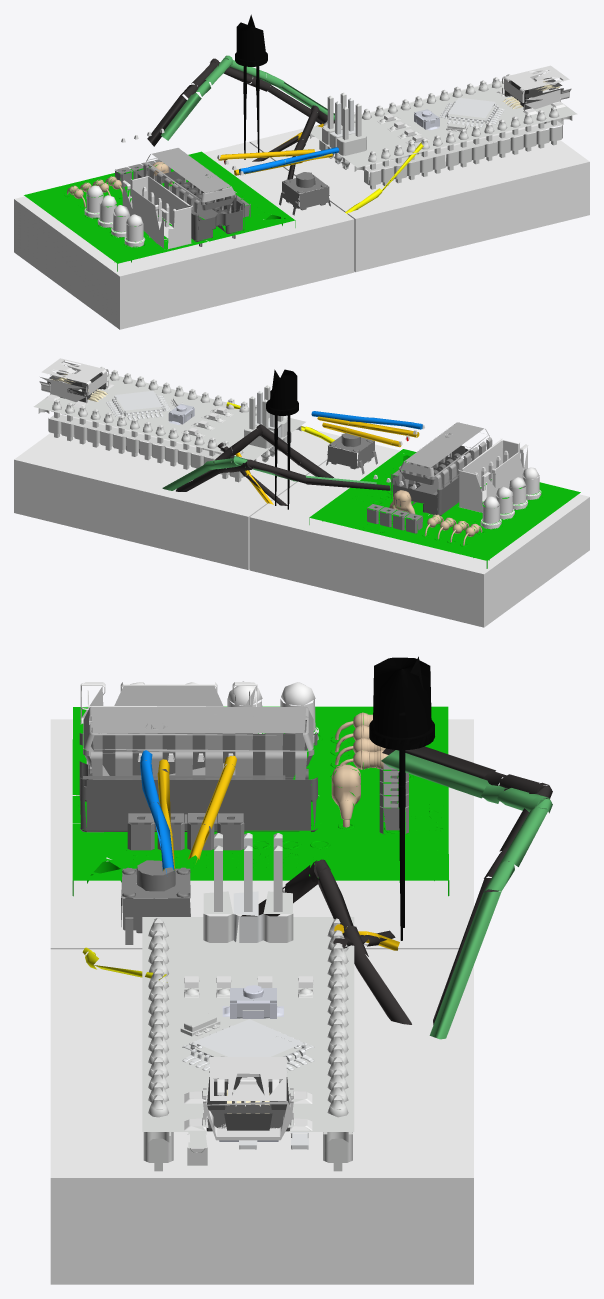
Rendered from circuitry.glb.
3 renders of one model, top to bottom at view 1: azimuth 30°, elevation 25°; view 2: azimuth 150°, elevation 25°; view 3: azimuth 270°, elevation 25°, orthographic. The views are drawn at different scales.
Parts seen in each view (by area): view 1: Body 01 (10) (×2), arduino nano.STEP-1/nano-board.STEP-1-solid1, object 61, arduino nano.STEP-1/15pin_header__.STEP-1-solid1, object 1090, object 1087, arduino nano.STEP-1/MINIUSB - MEASURED.STEP-1/MINIUSBSHELL.S, object 58, object 1064, Body1, arduino nano.STEP-1/atmega328.STEP-1-solid1, object 1110 (+16 smaller); view 2: Body 01 (10) (×2), object 61, arduino nano.STEP-1/nano-board.STEP-1-solid1, arduino nano.STEP-1/15pin_header__.STEP-2-solid1, object 1090, object 1087, arduino nano.STEP-1/MINIUSB - MEASURED.STEP-1/MINIUSBSHELL.S, object 58, object 1064, Body1, arduino nano.STEP-1/atmega328.STEP-1-solid1, object 1108 (+17 smaller); view 3: Body 01 (10) (×2), arduino nano.STEP-1/nano-board.STEP-1-solid1, object 61, object 1087, object 58, arduino nano.STEP-1/MINIUSB - MEASURED.STEP-1/MINIUSBSHELL.S, object 1064, BRK (×2), object 1109, Body1, object 1090, arduino nano.STEP-1/atmega328.STEP-1-solid1 (+16 smaller).
Boxes of the visible parts, x1,y1,x2,y2 form: Body 01 (10) (×2): (14, 85, 589, 329); arduino nano.STEP-1/nano-board.STEP-1-solid1: (310, 79, 577, 171); object 61: (24, 151, 295, 271); arduino nano.STEP-1/15pin_header__.STEP-1-solid1: (364, 106, 562, 189); object 1090: (122, 176, 192, 249); object 1087: (137, 171, 244, 246); arduino nano.STEP-1/MINIUSB - MEASURED.STEP-1/MINIUSBSHELL.S: (496, 65, 571, 114); object 58: (235, 14, 267, 159); object 1064: (152, 148, 230, 192); Body1: (279, 172, 330, 215); arduino nano.STEP-1/atmega328.STEP-1-solid1: (439, 97, 504, 127); object 1110: (161, 55, 232, 140); Body 01 (10) (×2): (14, 416, 589, 627); object 61: (309, 449, 580, 568); arduino nano.STEP-1/nano-board.STEP-1-solid1: (33, 372, 305, 461); arduino nano.STEP-1/15pin_header__.STEP-2-solid1: (48, 399, 243, 482); object 1090: (458, 438, 527, 512); object 1087: (391, 437, 479, 515); arduino nano.STEP-1/MINIUSB - MEASURED.STEP-1/MINIUSBSHELL.S: (39, 358, 113, 407); object 58: (266, 369, 298, 509); object 1064: (405, 422, 483, 467); Body1: (327, 433, 377, 474); arduino nano.STEP-1/atmega328.STEP-1-solid1: (106, 390, 171, 420); object 1108: (247, 459, 390, 490); Body 01 (10) (×2): (50, 719, 473, 1284); arduino nano.STEP-1/nano-board.STEP-1-solid1: (142, 917, 354, 1142); object 61: (72, 706, 449, 896); object 1087: (79, 730, 317, 832); object 58: (369, 656, 434, 940); arduino nano.STEP-1/MINIUSB - MEASURED.STEP-1/MINIUSBSHELL.S: (184, 1056, 312, 1140); object 1064: (91, 707, 306, 732); BRK (×2): (127, 763, 408, 850); object 1109: (429, 798, 552, 1039); Body1: (121, 860, 190, 944); object 1090: (80, 682, 257, 775); arduino nano.STEP-1/atmega328.STEP-1-solid1: (182, 1019, 314, 1072).
Size of the model in its own units: 0.0961 by 0.0363 by 0.0427.
